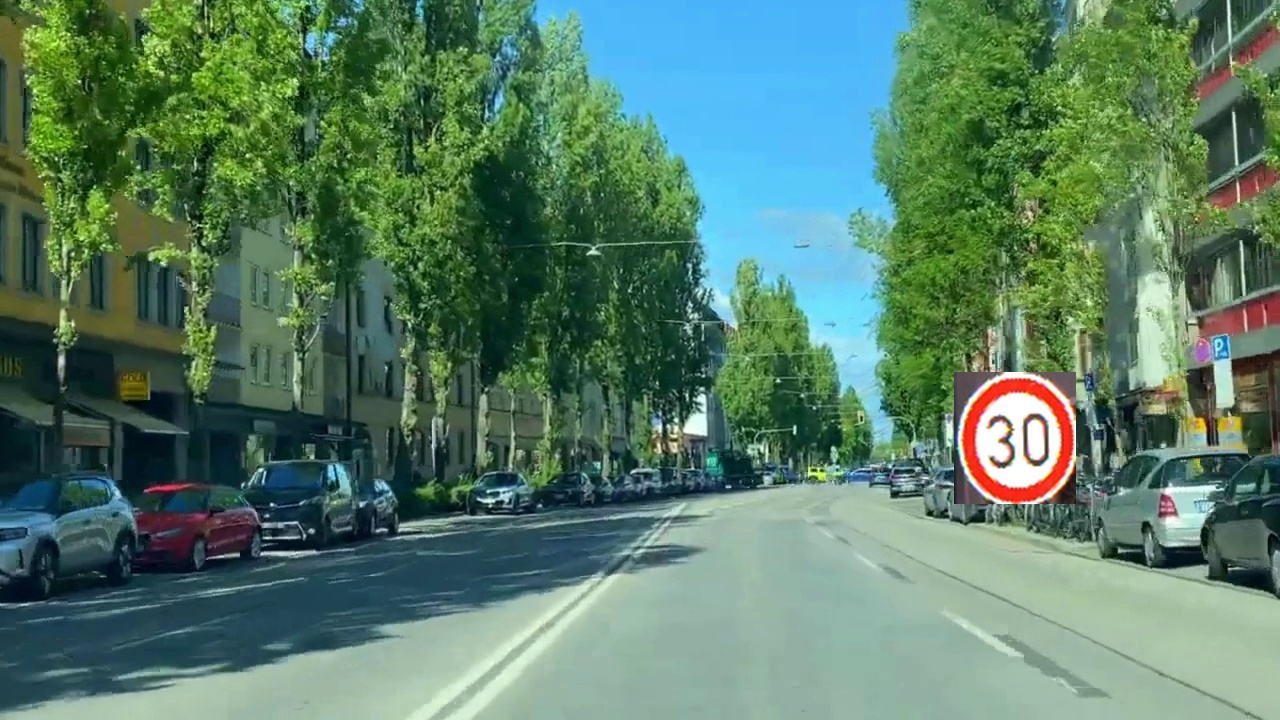Speed 30: (954, 372, 1076, 504)
